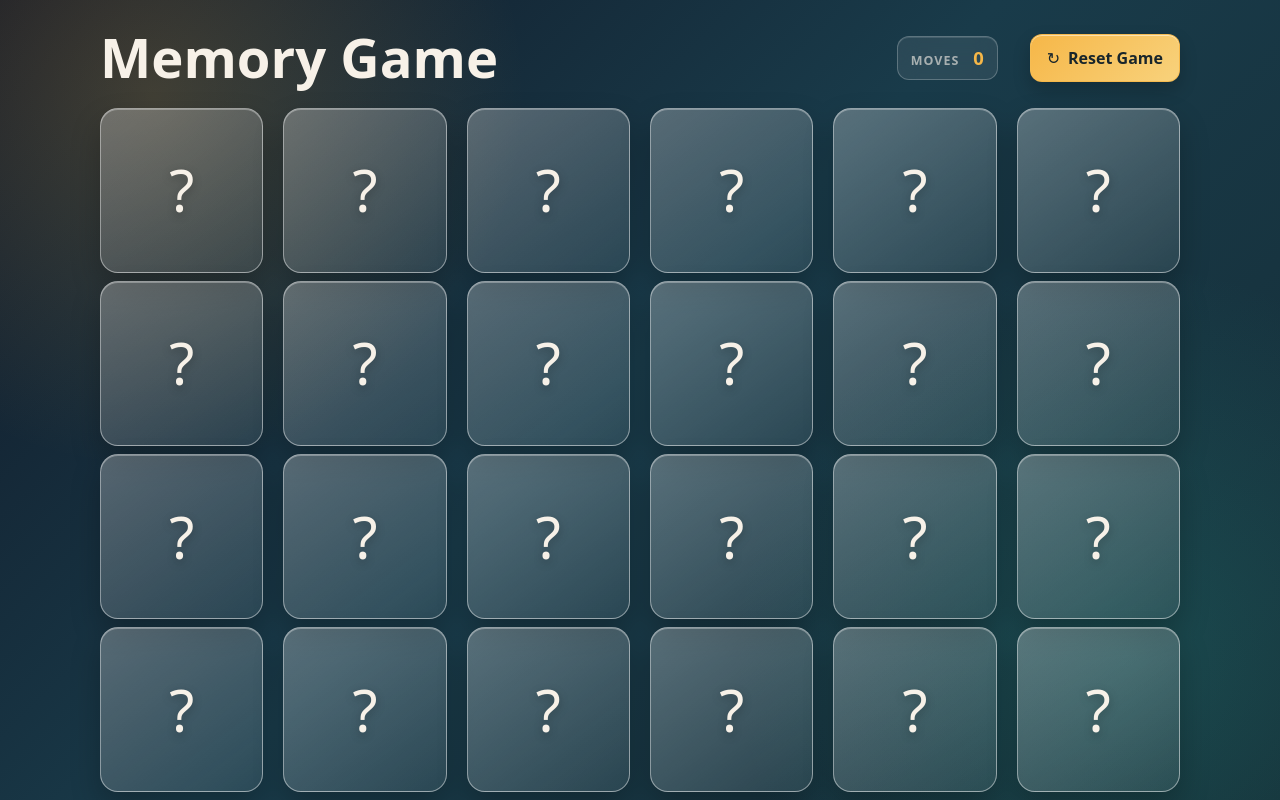
Test case: memory game behavior › reveals a selected card
Click the 1st button with class "memory-card".
click(182, 190)  # box [100, 108, 263, 273]
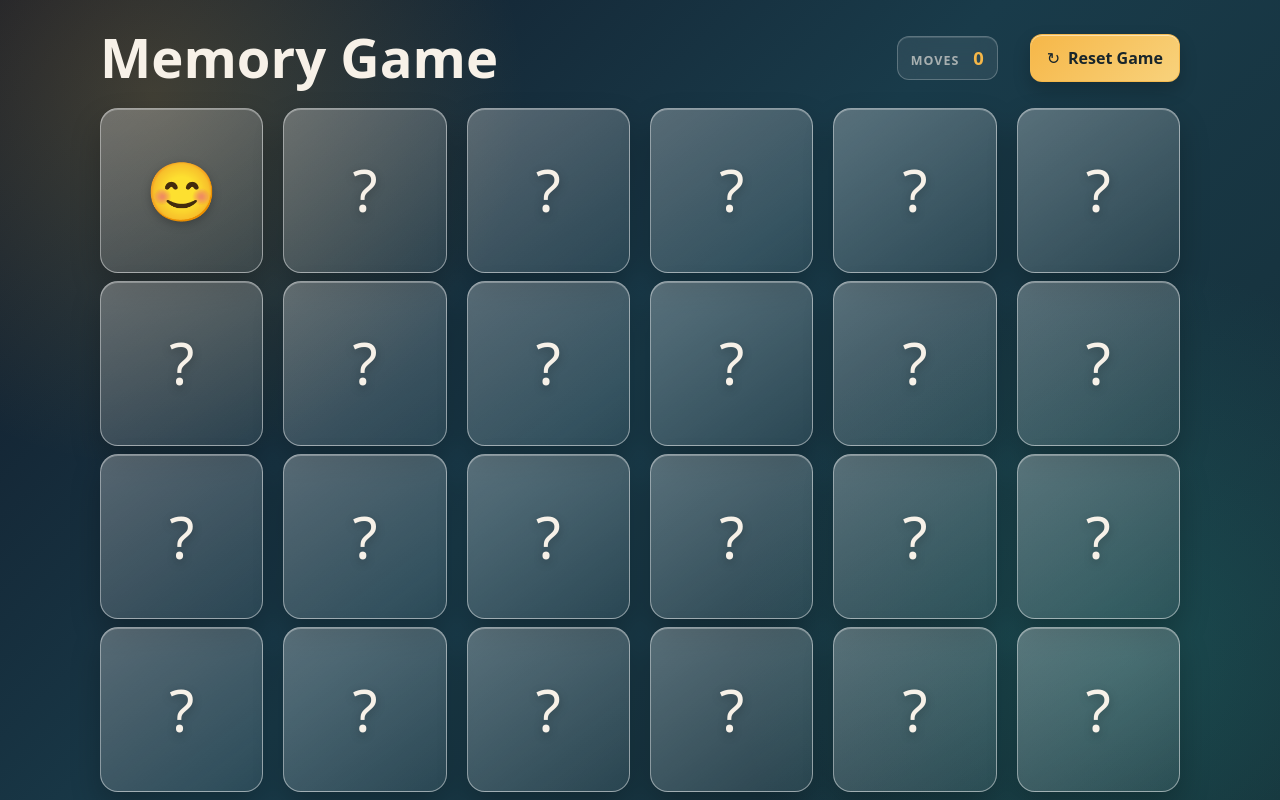
Expected: the text "😊" is shown, [146, 161, 218, 219]
